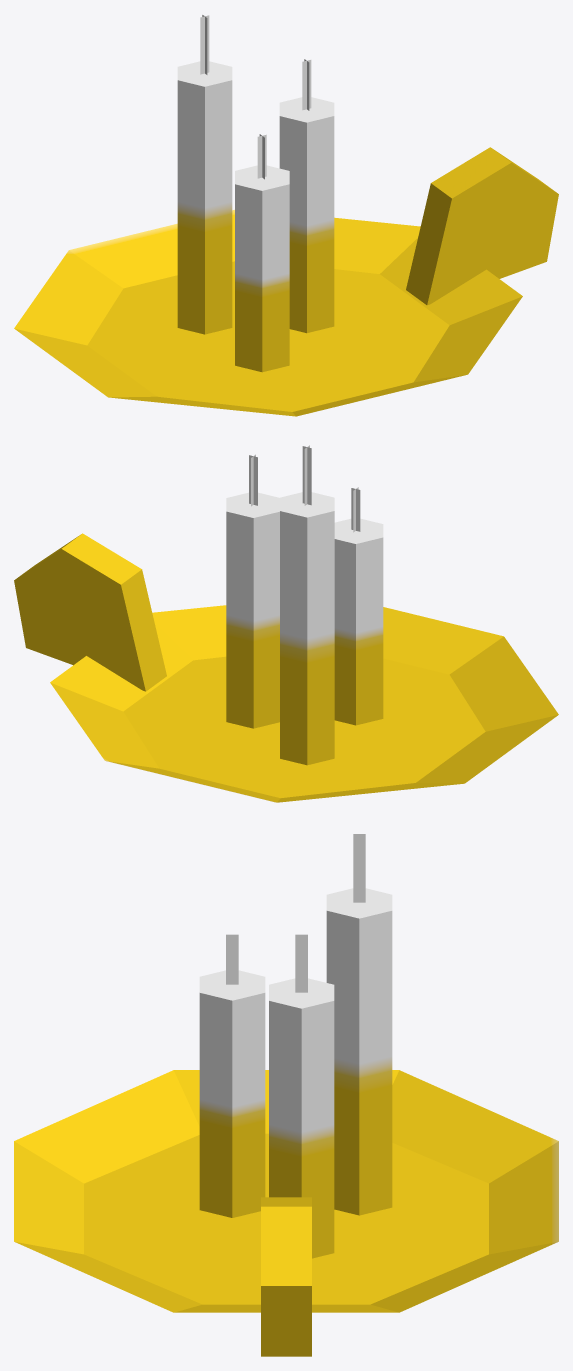
File: candleTriple_Plate.fbx
3 renders of one model, top to bottom at view 1: azimuth 30°, elevation 25°; view 2: azimuth 150°, elevation 25°; view 3: azimuth 270°, elevation 25°, orthographic. The views are drawn at different scales.
Visible parts, largest first — view 1: candleTriple_Plate, candles, handle; view 2: candleTriple_Plate, candles, handle; view 3: candleTriple_Plate, candles, handle.
Boxes of the visible parts, x1,y1,x2,y2 form: candleTriple_Plate: (14, 209, 522, 416); candles: (177, 15, 334, 372); handle: (406, 147, 558, 305); candleTriple_Plate: (50, 605, 558, 802); candles: (226, 445, 383, 765); handle: (14, 533, 166, 691); candleTriple_Plate: (14, 1070, 558, 1312); candles: (199, 834, 392, 1258); handle: (261, 1197, 311, 1356).
Bounding box in the file's own units: 84.67 × 50.62 × 68.42.
